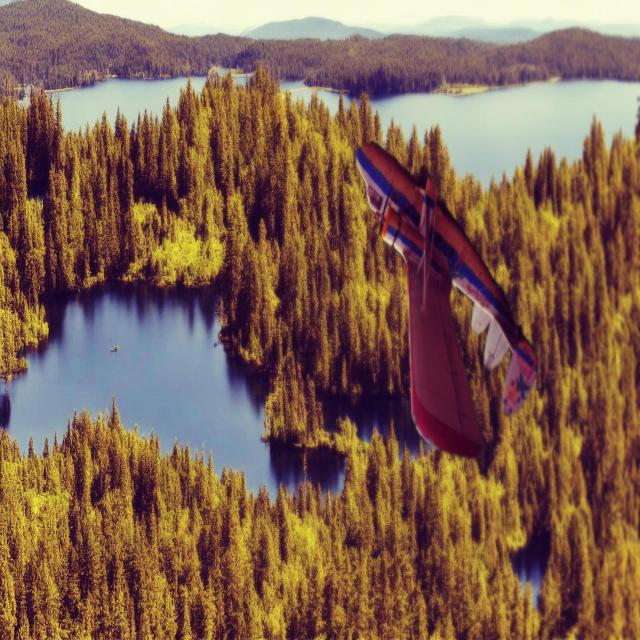airplane: (355, 140, 538, 458)
